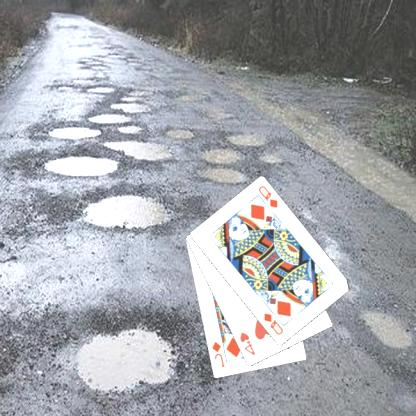4H: (238, 329, 258, 357)
JD: (210, 338, 228, 368)
QD: (257, 182, 281, 210), (262, 310, 287, 336)
